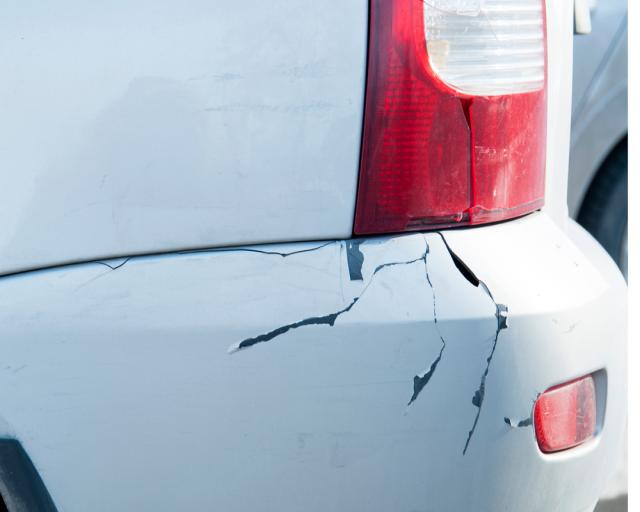crack: (232, 234, 446, 407), (432, 231, 500, 457), (173, 240, 337, 258), (77, 256, 133, 290)
lamp broken: (351, 0, 549, 239)
